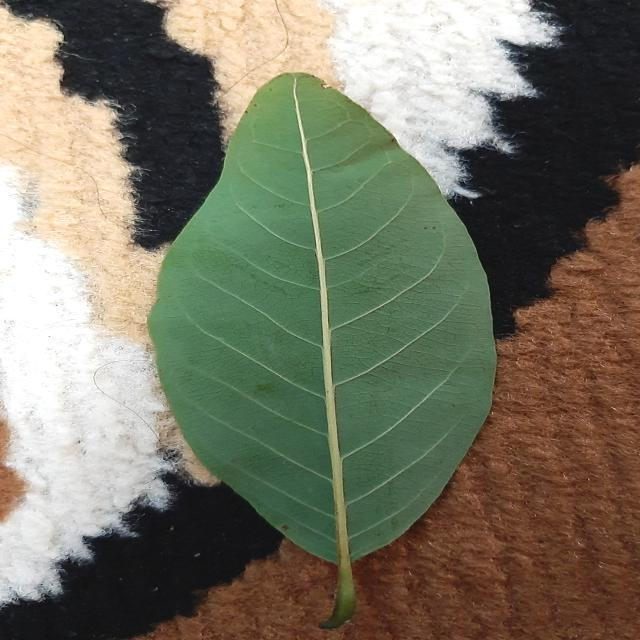leaf: (145, 69, 498, 624)
